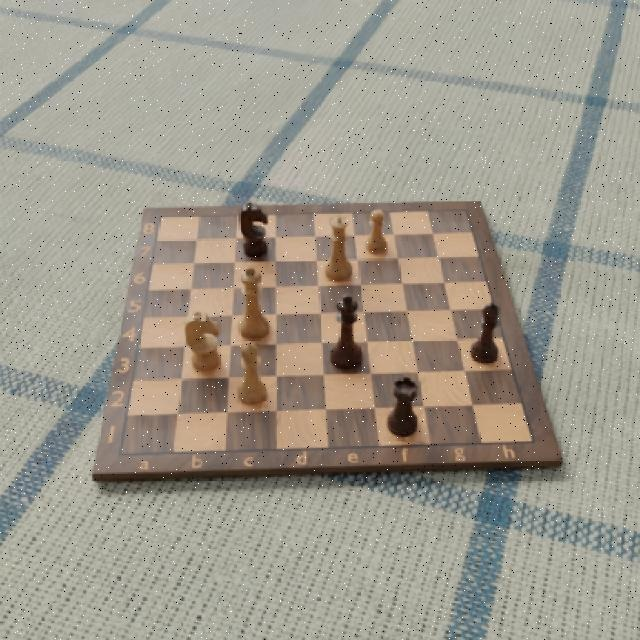black-bishop: (469, 300, 502, 364)
black-king: (327, 292, 369, 372)
black-knight: (238, 203, 270, 258)
black-rook: (390, 370, 422, 442)
white-bishop: (237, 338, 269, 407)
white-king: (237, 264, 271, 341)
white-knight: (182, 310, 222, 374)
white-pawn: (365, 206, 391, 256)
white-queen: (322, 212, 354, 284)
